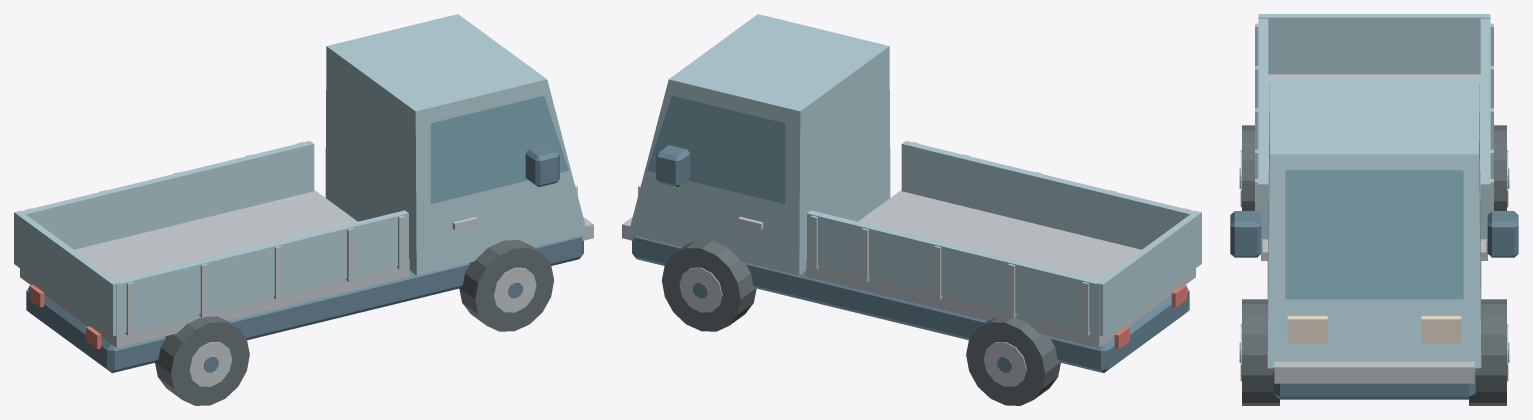
Rendered from truck.glb.
3 renders of one model, left to right at view 1: azimuth 30°, elevation 25°; view 2: azimuth 150°, elevation 25°; view 3: azimuth 270°, elevation 25°, orthographic. The views are drawn at different scales.
Visible parts, largest first — view 1: truck_navy, truck_glass; view 2: truck_navy, truck_glass; view 3: truck_navy, truck_glass.
Boxes of the visible parts, <box> form: truck_navy: <box>14,14,593,405</box>; truck_glass: <box>430,96,568,203</box>; truck_navy: <box>622,14,1201,405</box>; truck_glass: <box>647,96,785,203</box>; truck_navy: <box>1230,14,1518,405</box>; truck_glass: <box>1285,170,1463,299</box>.
Bounding box in the file's own units: 2.97 × 1.35 × 1.3.
2 materials, 2 textured.
